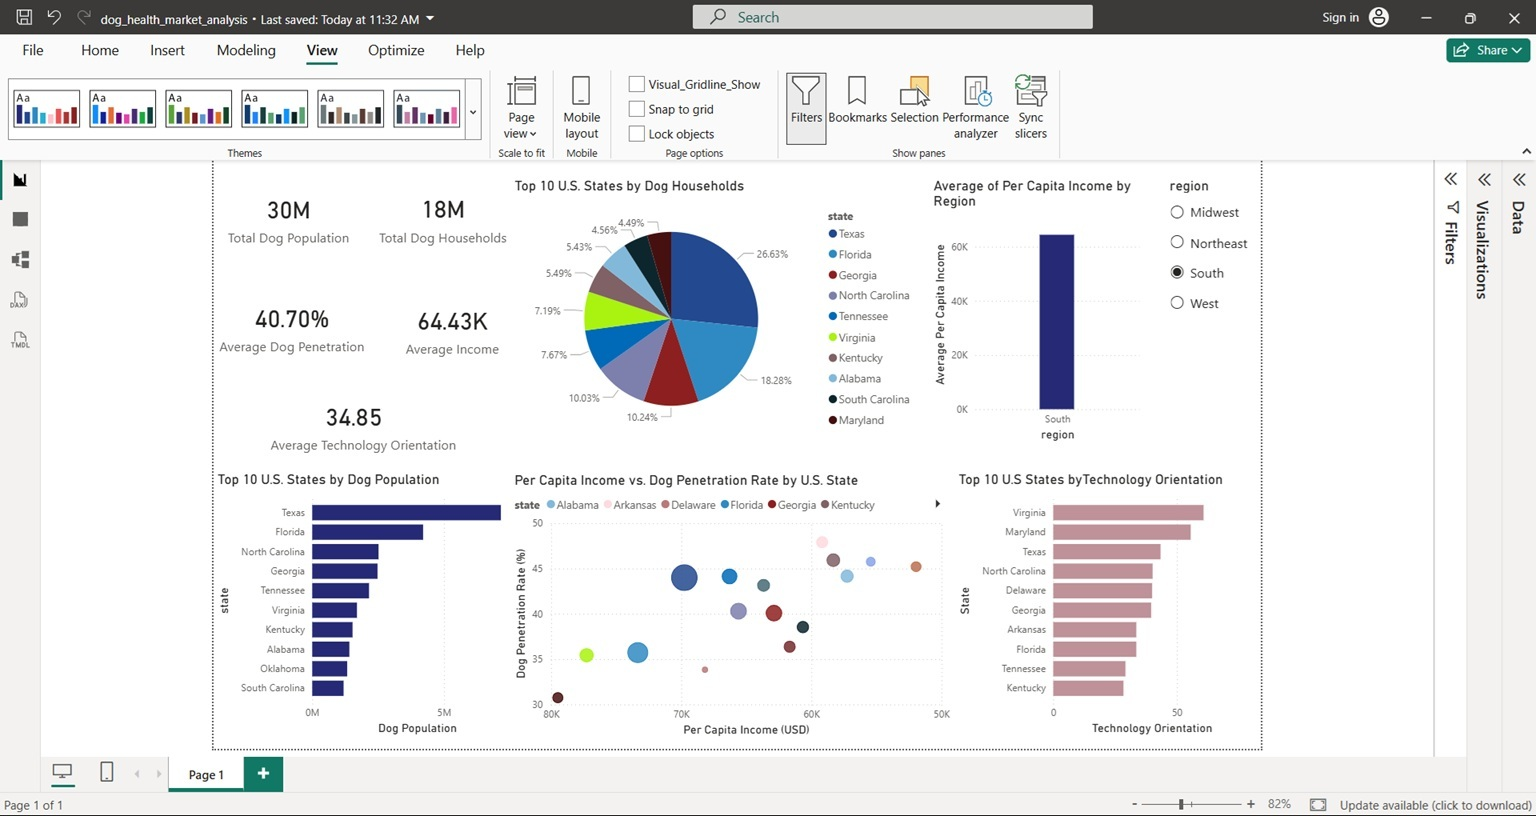

Layout of this report page (visuals, bound fields, positions):
{"tool":"powerbi","page":{"name":"Page 1","canvas":[1280,720],"ordinal":0},"visuals":[{"type":"card","fields":{"Values":["market market_kpis.Total Dog Households"]},"box":[183.4,0,194.4,139.4],"z":0},{"type":"actionButton","box":[0,0,100,40],"z":1000},{"type":"card","fields":{"Values":["market market_kpis.Total Dog Population"]},"box":[0,0,183.8,140],"z":2000},{"type":"card","fields":{"Values":["market market_kpis.Average Dog Penetration"]},"box":[0,128.4,192,149.2],"z":3000},{"type":"card","fields":{"Values":["market market_kpis.Average Income"]},"box":[192,130.8,200.5,150.4],"z":4000},{"type":"card","fields":{"Values":["market market_kpis.Average Technology Orientation"]},"box":[52.6,266.6,261.7,113.7],"z":5000},{"type":"clusteredBarChart","title":"Top 10 U.S. States by Dog Population","fields":{"Category":["market market_kpis.state"],"Y":["Sum(market market_kpis.dog_population)"]},"box":[0,380.1,392.5,328],"z":6000},{"type":"scatterChart","title":"Per Capita Income vs. Dog Penetration Rate by U.S. State","fields":{"X":["Sum(market market_kpis.per_capita_income)"],"Y":["Sum(market market_kpis.dog_penetration_rate)"],"Category":["market market_kpis.state"],"Size":["Sum(market market_kpis.dog_population)"],"Series":["market market_kpis.state"]},"box":[363.6,381.5,542,328],"z":7000},{"type":"listSlicer","fields":{"Values":["market market_kpis.region"]},"box":[1163.6,20.6,116.6,328],"z":8000},{"type":"clusteredBarChart","title":"Top 10 U.S States byTechnology Orientation","fields":{"Y":["Sum(market market_kpis.technology_orientation)"],"Category":["market market_kpis.state"]},"box":[905.7,380.1,374.6,328],"z":9000},{"type":"pieChart","title":"Top 10 U.S. States by Dog Households","fields":{"Y":["Sum(market market_kpis.dog_households)"],"Series":["market market_kpis.state"],"Category":["market market_kpis.state"]},"box":[363.6,20.6,502.2,328],"z":10000},{"type":"clusteredColumnChart","title":"Average of Per Capita Income by Region","fields":{"Category":["market market_kpis.region"],"Y":["Avg(market market_kpis.per_capita_income)"]},"box":[875.5,20.6,262.1,328],"z":11000}]}

Visuals, with their boxes on the page's 1280x720 design canvas (x1, y1, x2, y2). These are canvas units, not pixel positions in the 1536x816 screenshot, which may show the page scaled, cropped or inside an application window:
card - market market_kpis.Total Dog Households: [183,0,378,139]
actionButton: [0,0,100,40]
card - market market_kpis.Total Dog Population: [0,0,184,140]
card - market market_kpis.Average Dog Penetration: [0,128,192,278]
card - market market_kpis.Average Income: [192,131,392,281]
card - market market_kpis.Average Technology Orientation: [53,267,314,380]
"Top 10 U.S. States by Dog Population" clusteredBarChart: [0,380,392,708]
"Per Capita Income vs. Dog Penetration Rate by U.S. State" scatterChart: [364,382,906,710]
listSlicer - market market_kpis.region: [1164,21,1280,349]
"Top 10 U.S States byTechnology Orientation" clusteredBarChart: [906,380,1280,708]
"Top 10 U.S. States by Dog Households" pieChart: [364,21,866,349]
"Average of Per Capita Income by Region" clusteredColumnChart: [876,21,1138,349]
